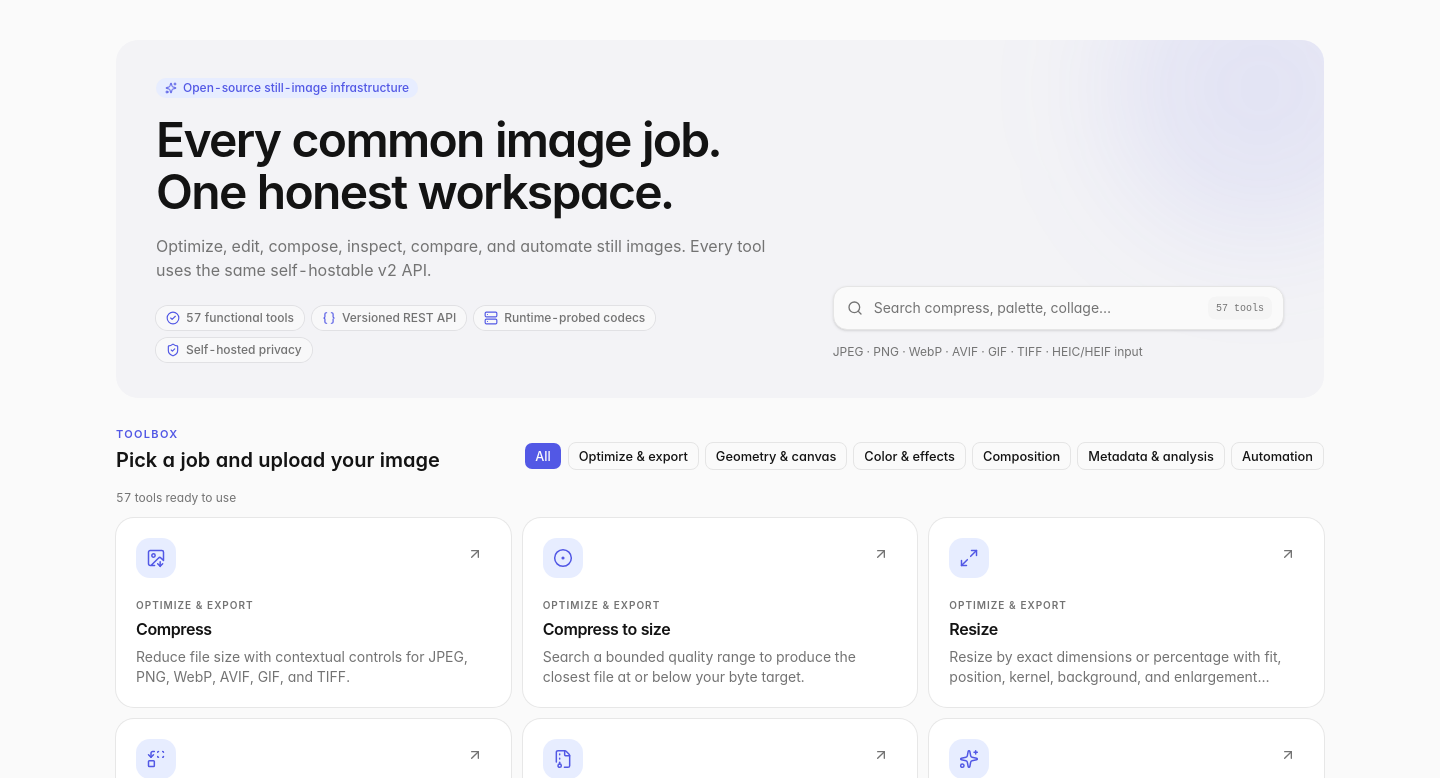
ToolExplorer › searches across the shared tool registry
Type "camera" into the field named "search image tools".
click(1058, 308); type("camera")  # box [833, 286, 1284, 330]
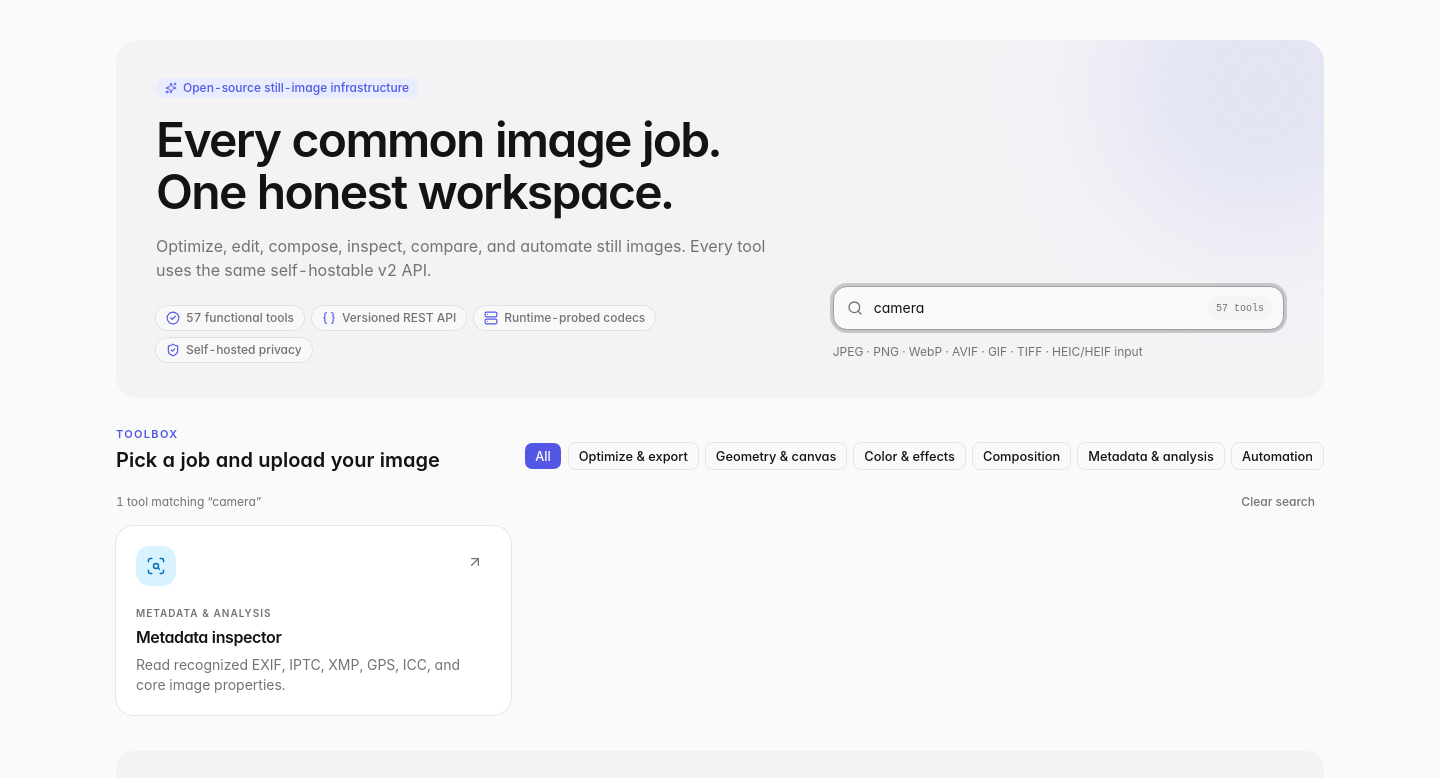
Check: the heading "Metadata inspector" is shown, box [136, 627, 281, 647]
Check: the text "1 tool matching “camera”" is shown, box [116, 494, 261, 510]
Check: the link "Compress" is gone
